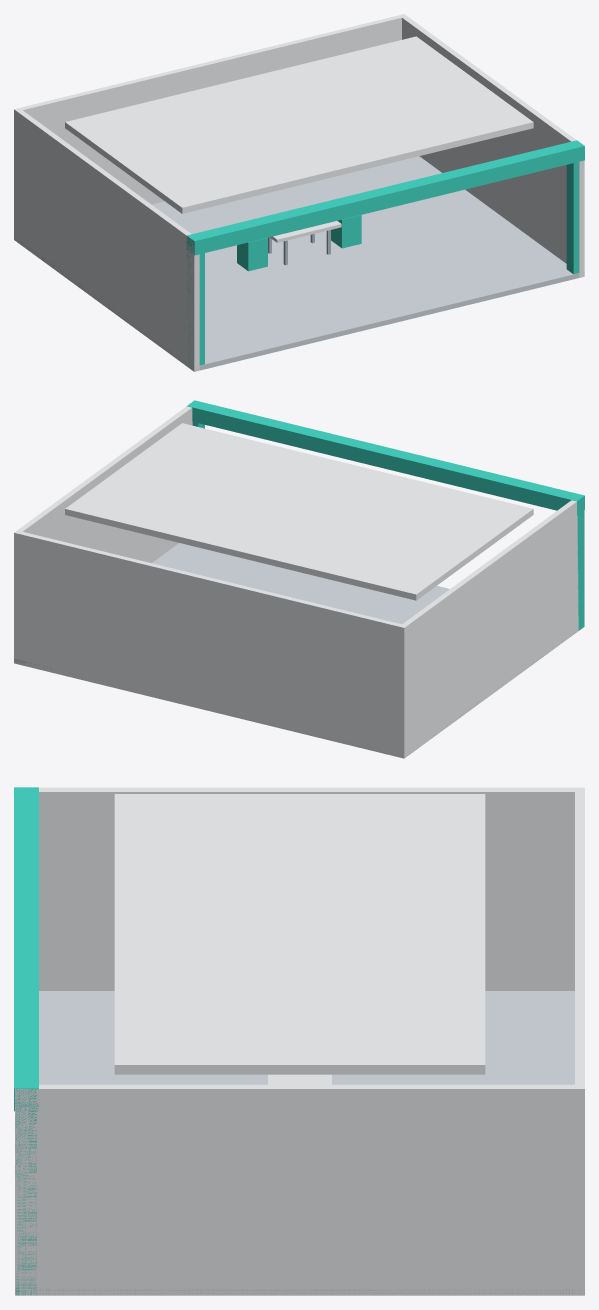
3 renders of one model, top to bottom at view 1: azimuth 30°, elevation 25°; view 2: azimuth 150°, elevation 25°; view 3: azimuth 270°, elevation 25°, orthographic. The views are drawn at different scales.
Parts seen in each view (by area): view 1: Exhibition Booth Concept; view 2: Exhibition Booth Concept; view 3: Exhibition Booth Concept.
Part boxes in pixels (x1,y1,x2,y2): Exhibition Booth Concept: (14,14,584,371); Exhibition Booth Concept: (14,400,584,758); Exhibition Booth Concept: (14,787,584,1295).
Bounding box in the file's own units: 10 × 3.34 × 8.01.
